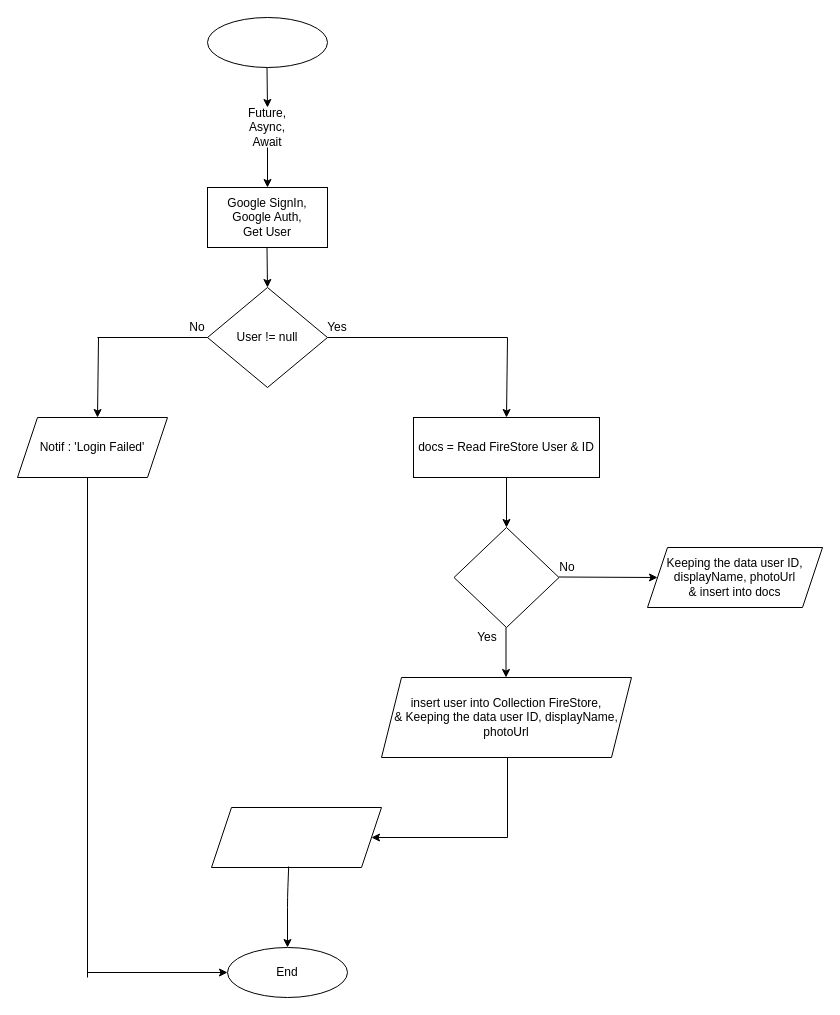
This 840x1015 diagram has some shape labels left out. The centre of each missing label's shape, as x and y in pixels:
"dosc.length == 0" belongs at [506,577].
"Notif : 'Login Successfull', Navigator -> homePage()" belongs at [296,837].
"Start" belongs at [267,42].
